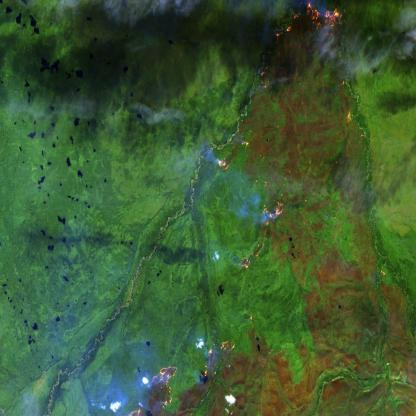fire: (118, 330, 241, 416), (233, 195, 292, 274), (272, 0, 346, 52), (214, 134, 253, 178), (336, 103, 358, 134)
